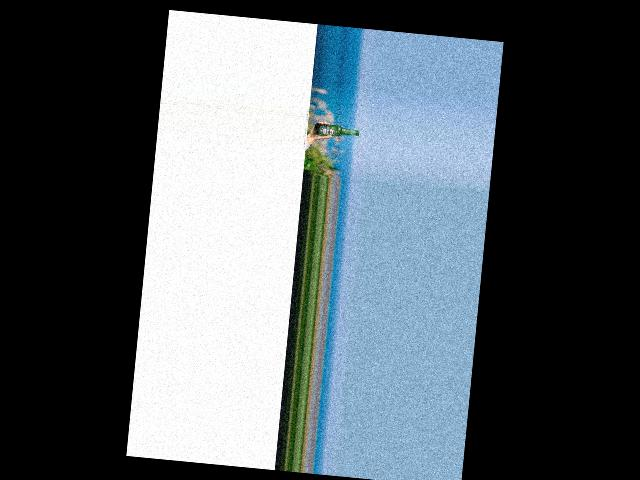beer: (313, 123, 359, 138)
